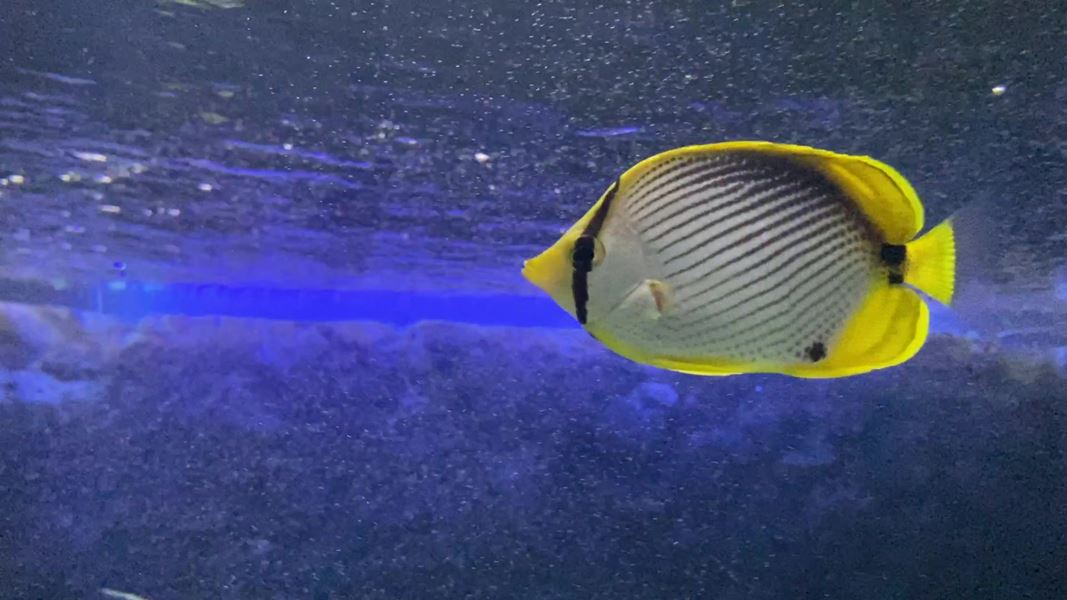Black-backed butterflyfish: (512, 128, 1018, 393)
